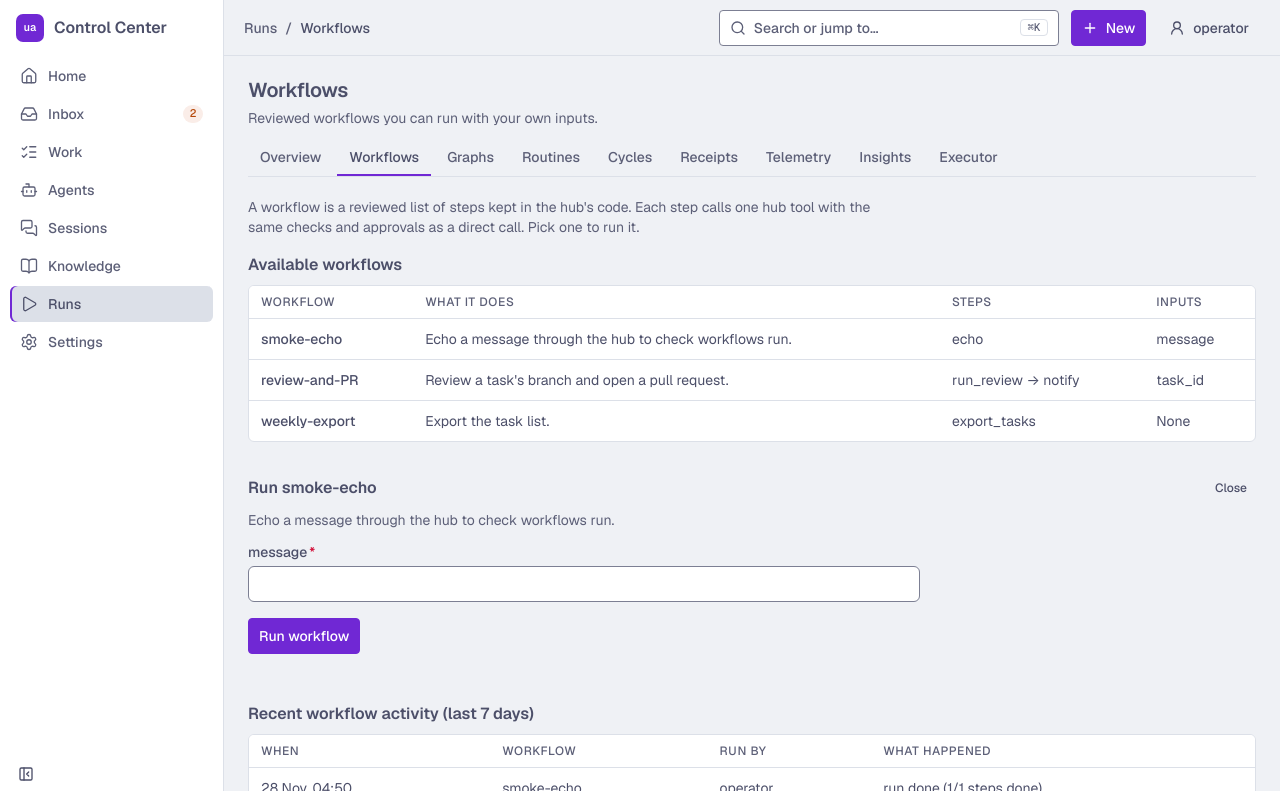
/runs/workflows › runs it with its inputs and shows each step's result
The width and height of the screenshot is (1280, 791).
Type "hello" into the field labelled "message*" at coordinates (584, 584), box [248, 566, 920, 602]
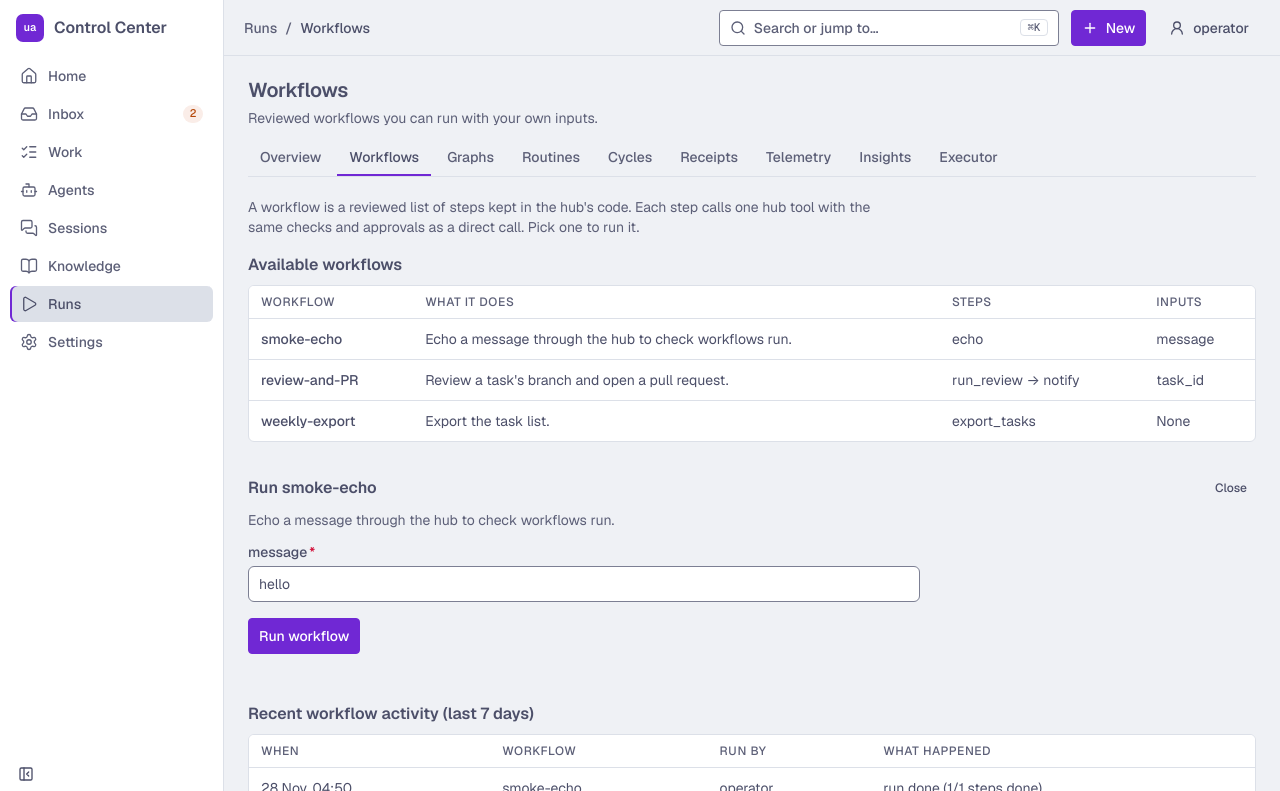
Click the button "Run workflow" at coordinates (304, 636), box [248, 618, 360, 654]
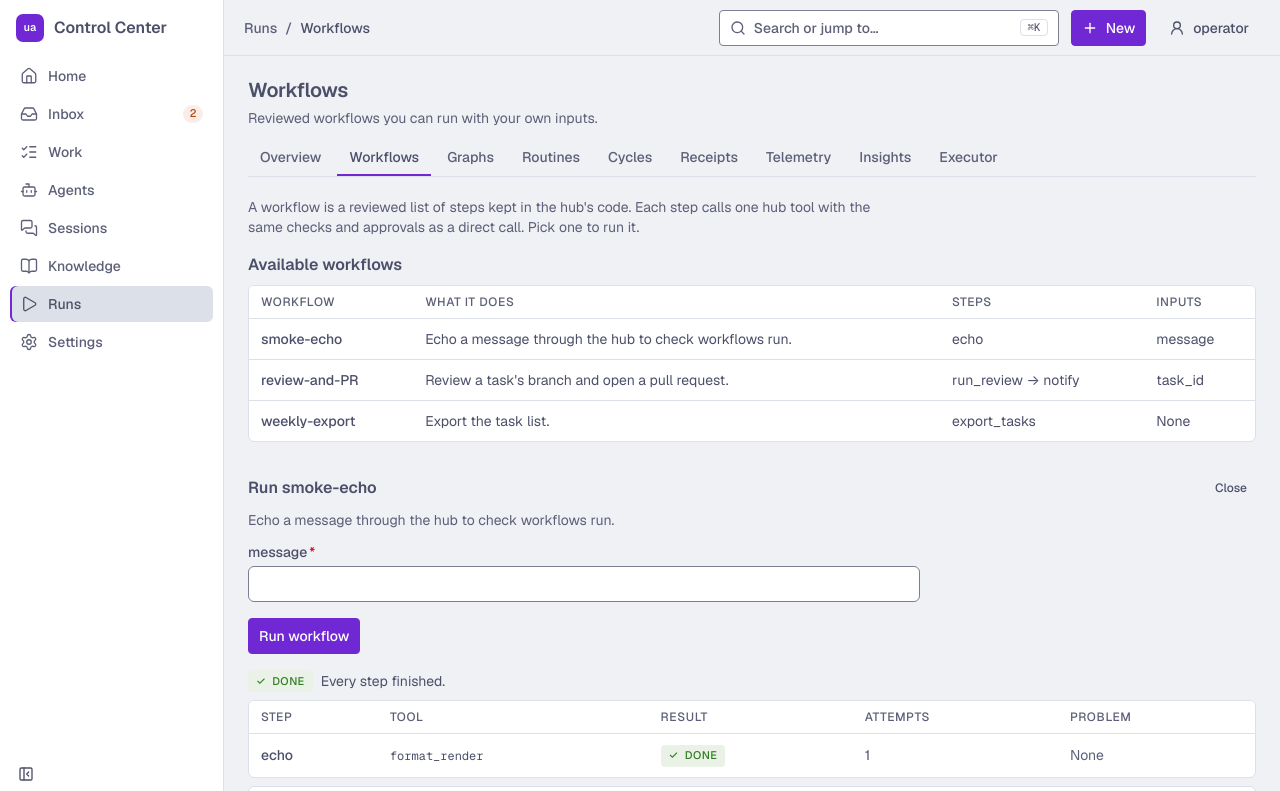
Expected: the text "echo" is shown, [261, 746, 293, 764]
Expected: the text "Done" in the row of "format_render" is shown, [685, 748, 717, 762]
Expected: the text "Every step finished." is shown, [321, 672, 445, 690]
